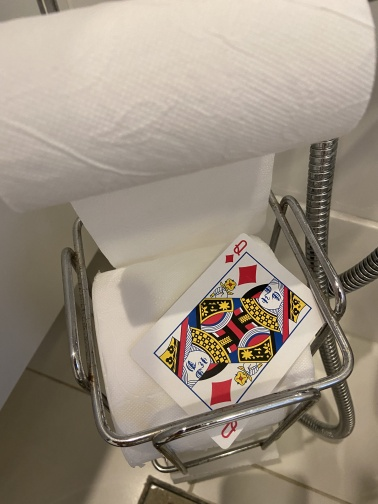queen: (127, 230, 338, 451)
